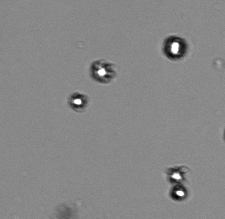Living Cell: (163, 35, 188, 60), (93, 61, 111, 83), (69, 92, 86, 110), (169, 185, 188, 201), (168, 167, 186, 182)
